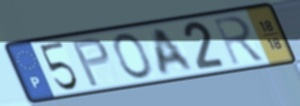2: (184, 19, 230, 74)
5: (37, 40, 81, 93)
A: (152, 26, 197, 78)
O: (111, 31, 155, 80)
P: (69, 35, 112, 89)
R: (210, 13, 267, 68)
